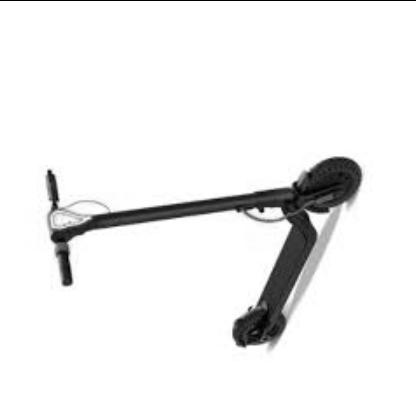bike: (42, 157, 365, 350)
